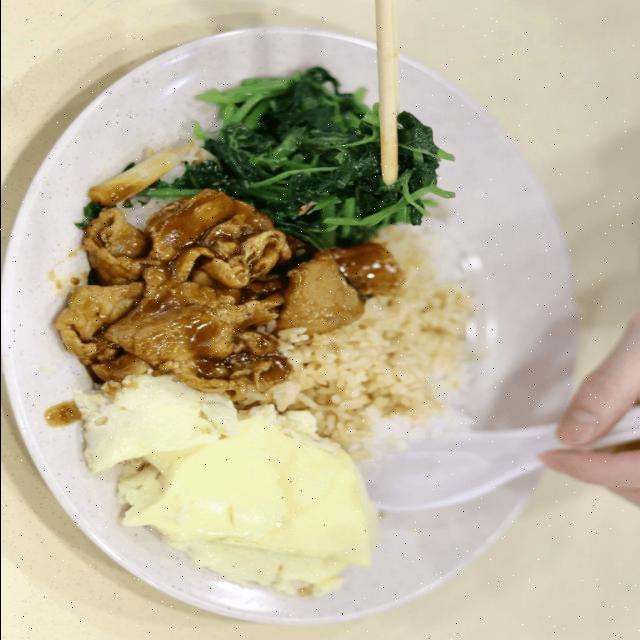Egg: (74, 376, 374, 595), (246, 404, 317, 436)
Green veg: (140, 67, 452, 249)
Pork: (54, 191, 402, 400)
Rice: (271, 225, 471, 466), (116, 199, 168, 229)
